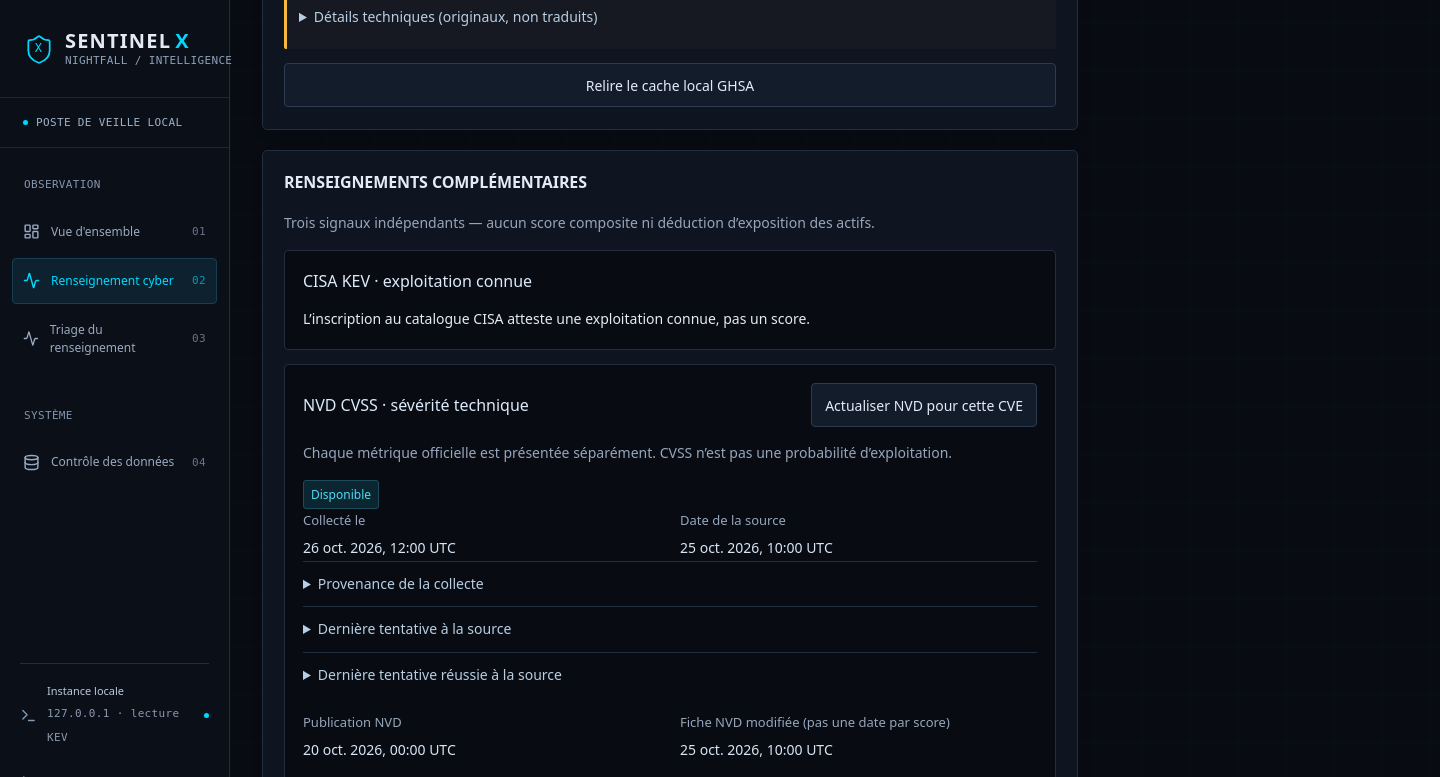
Test case: handles optional NVD deferred lease cleanup (true) independently of verified durable data
This screenshot has width=1440, height=777.
(page scrolled)
Click the button with test id "nvd-action" at (924,405), box [811, 383, 1037, 427]
(page scrolled)
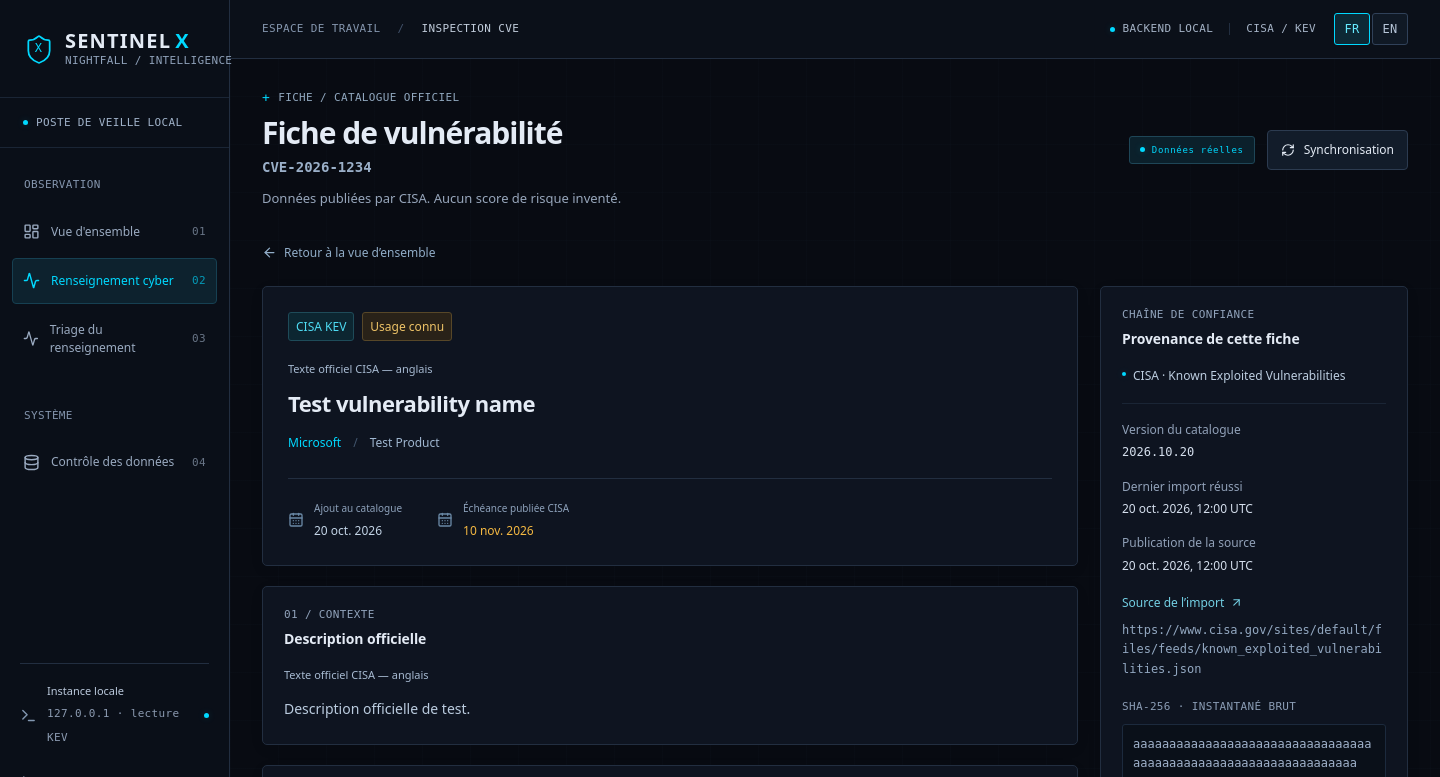
Click the button with test id "language-en" at (1390,29), box [1372, 13, 1408, 45]
(page scrolled)
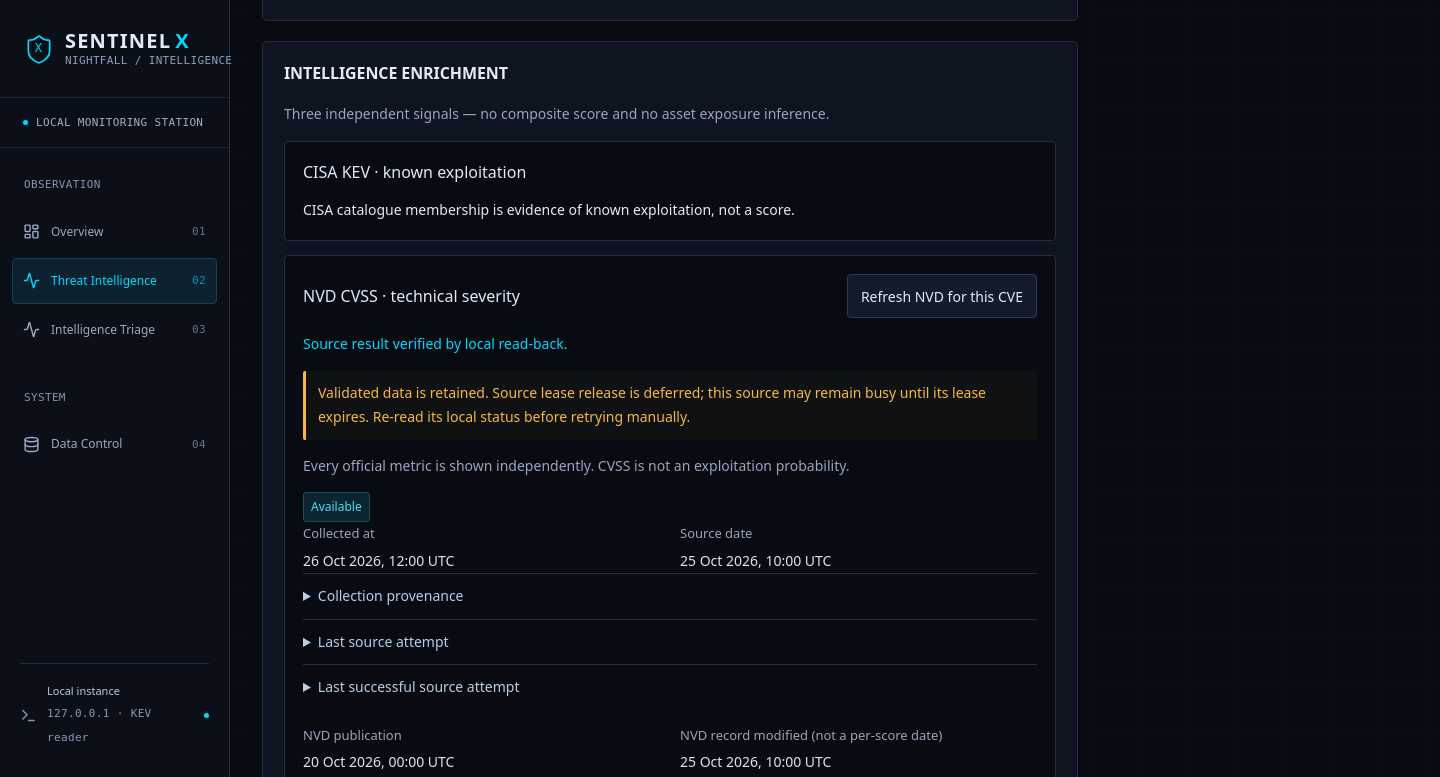
Expected: the 2nd message shows "Source lease release is deferred", [318, 383, 986, 426]
